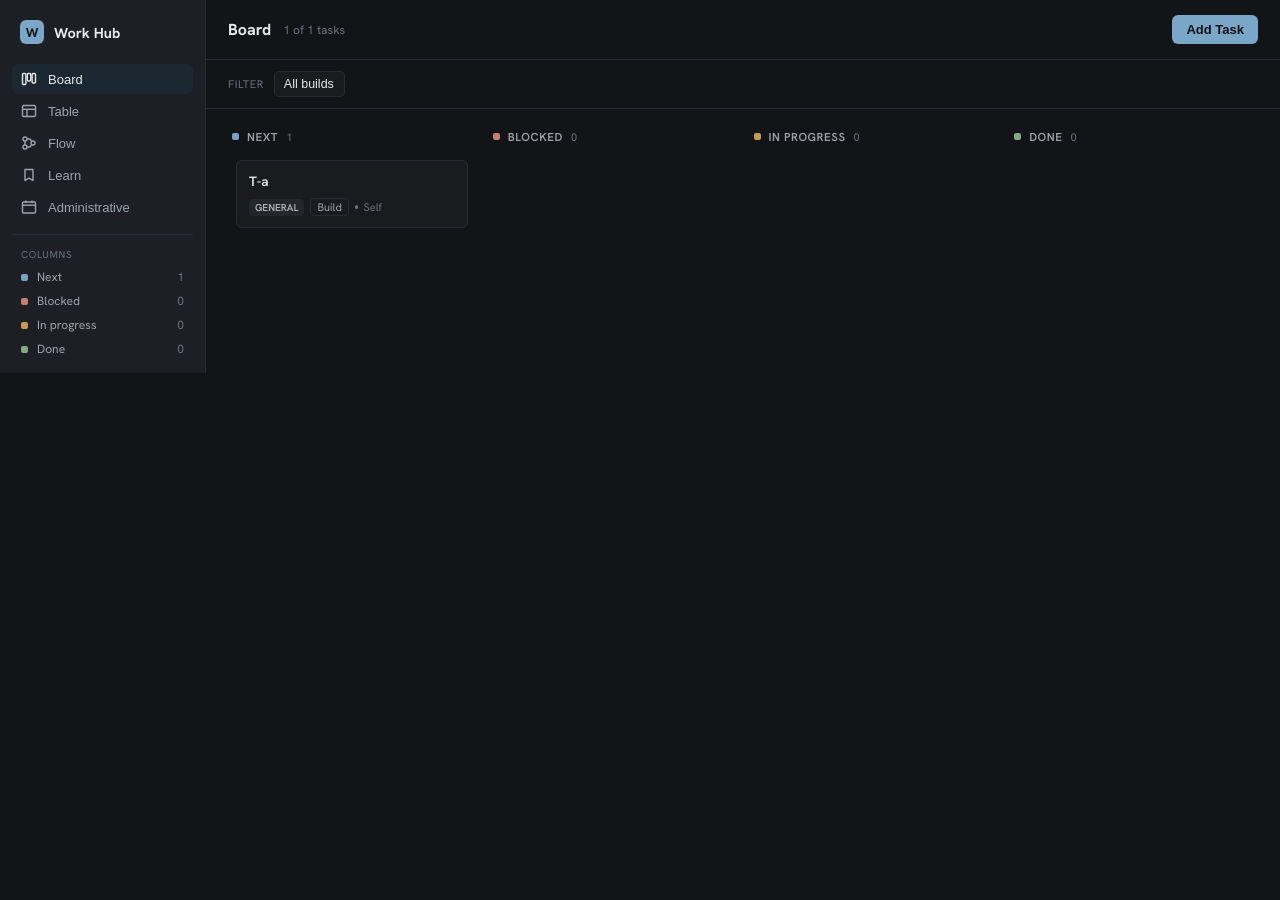
Test case: AppClient optimistic move › deletes a task from the edit modal after two-step confirm
The width and height of the screenshot is (1280, 900).
Click the text "T-a" at (259, 181), box [249,172,268,190]
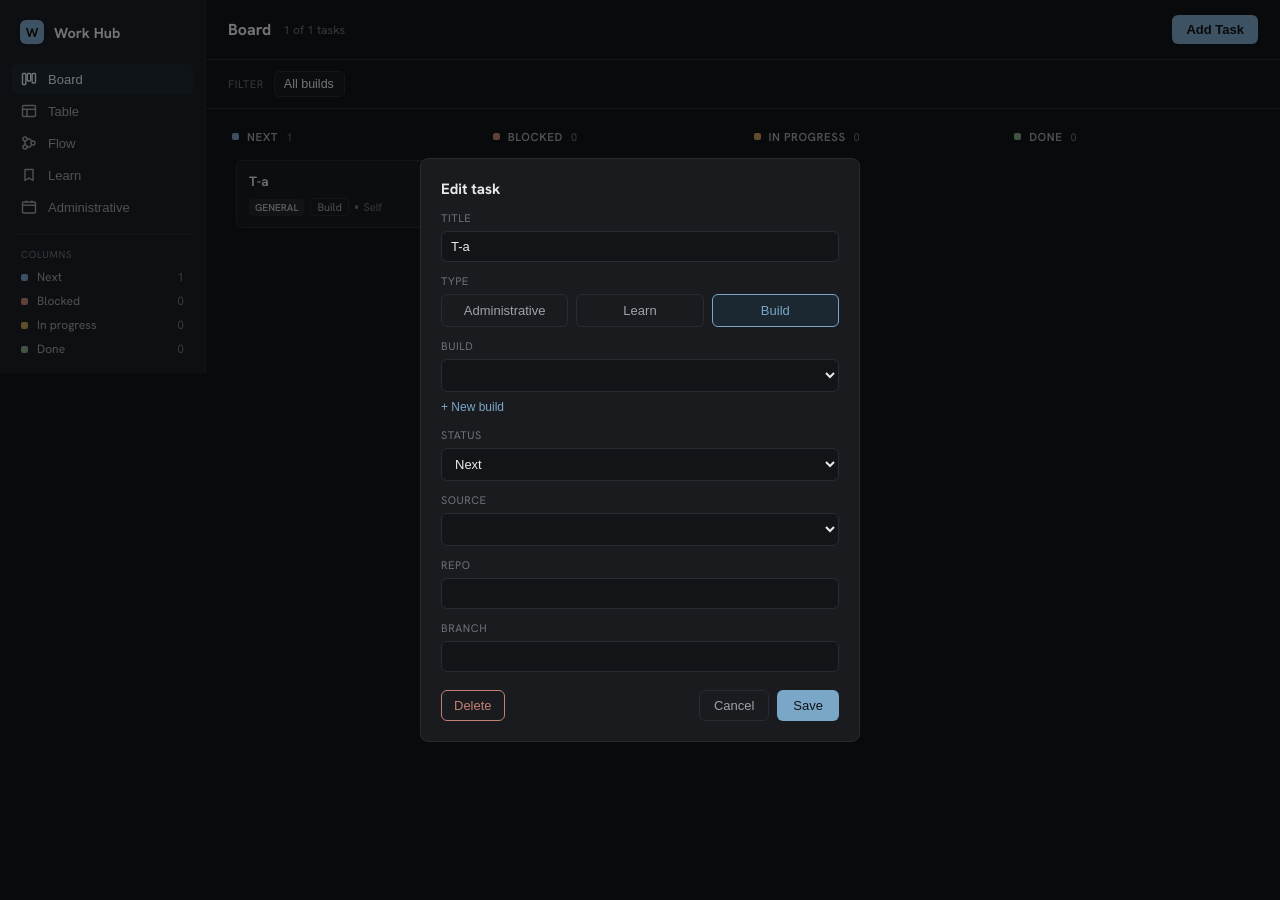
Click the button "Delete" at (473, 706), box [441,690,505,721]
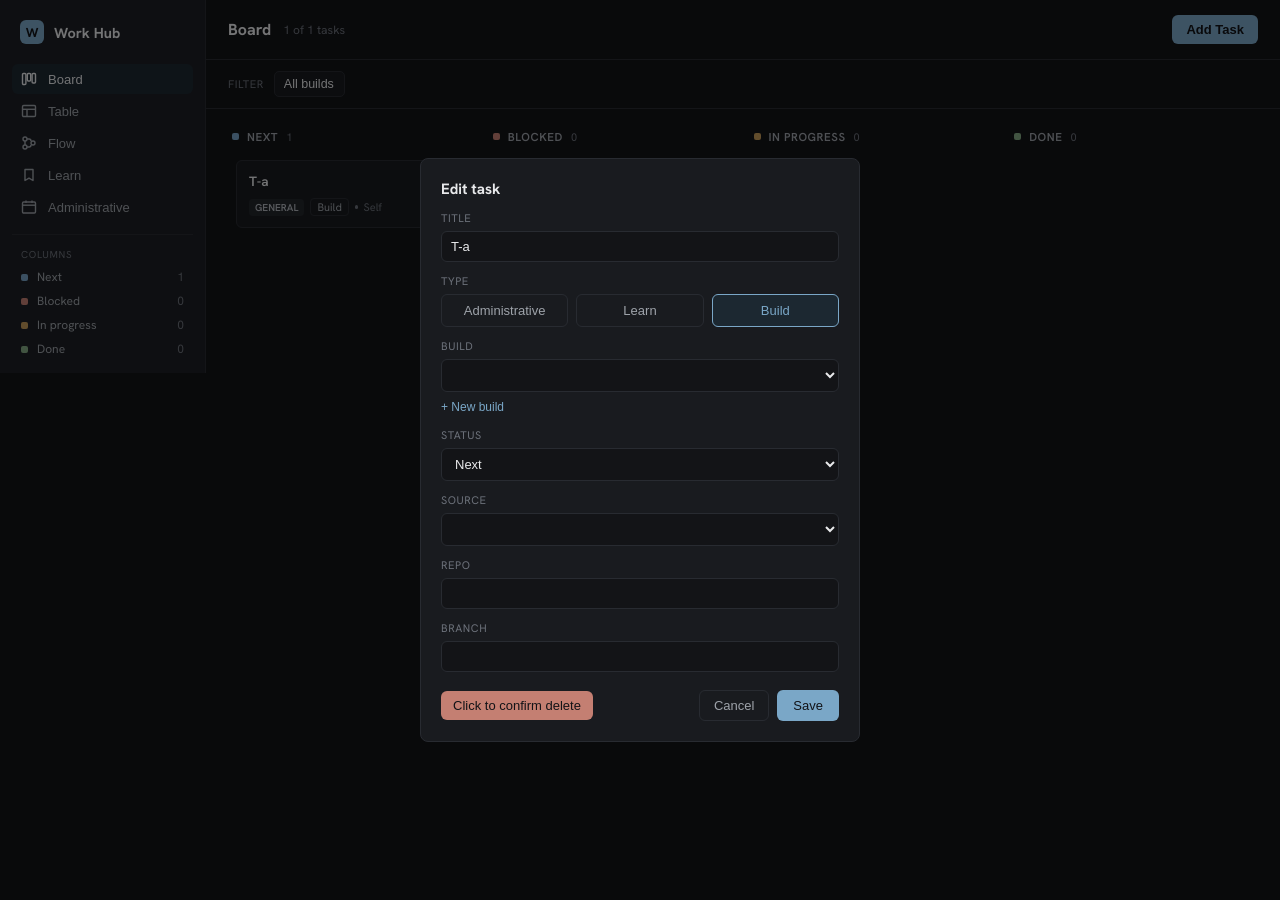
Click the button "Click to confirm delete" at (517, 706), box [441,691,593,720]
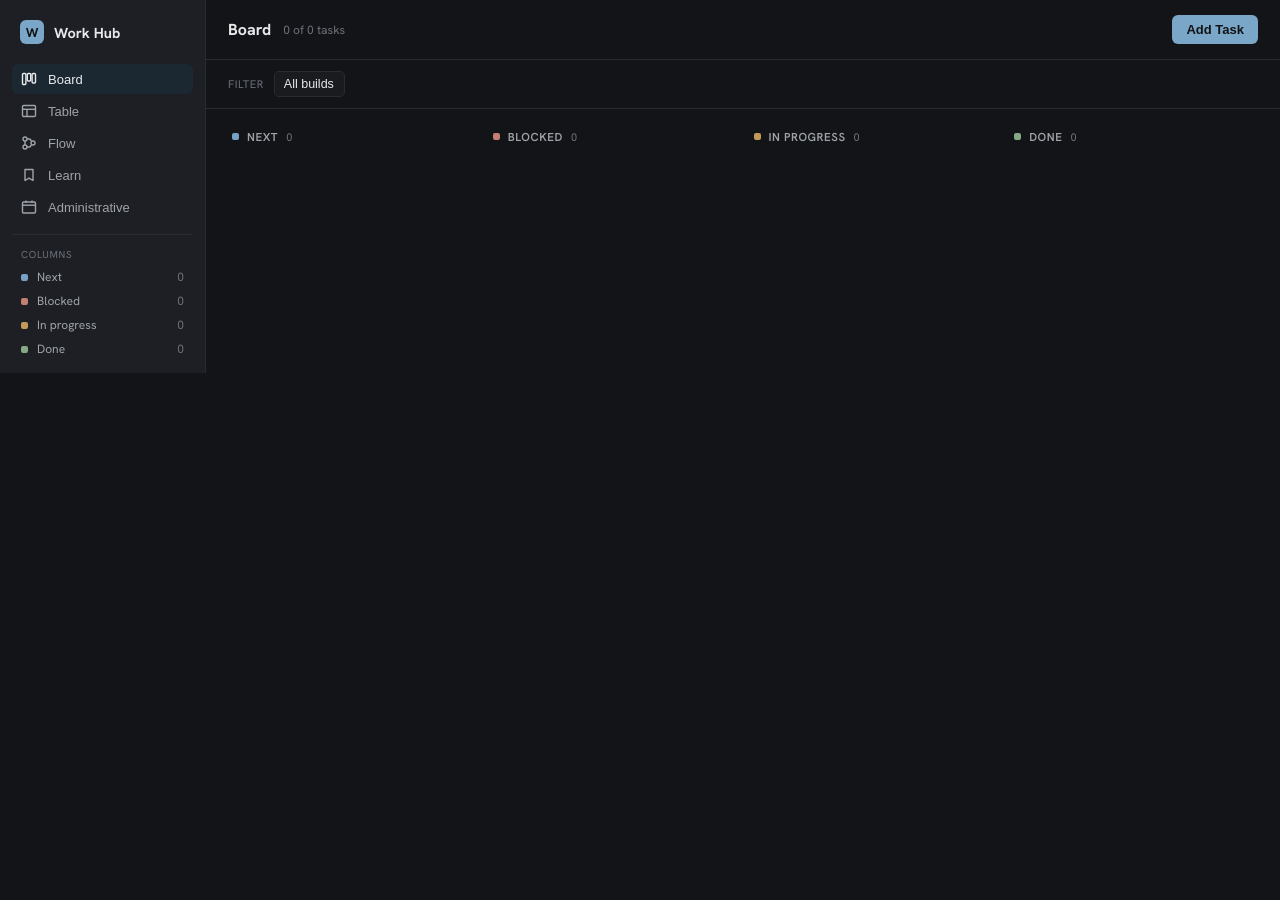
Check: the text "T-a" is gone
